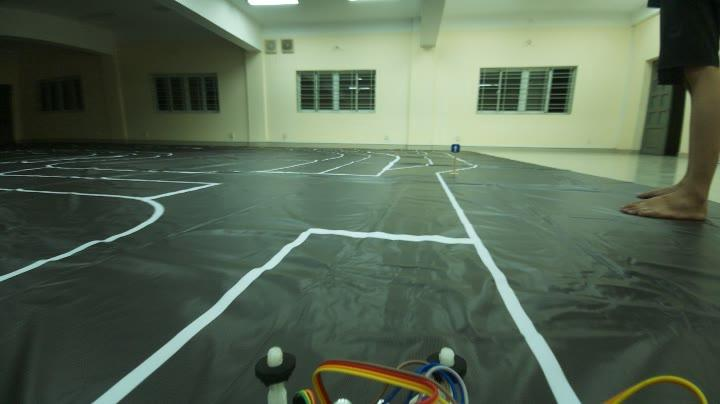onewayroad: (444, 142, 462, 158)
